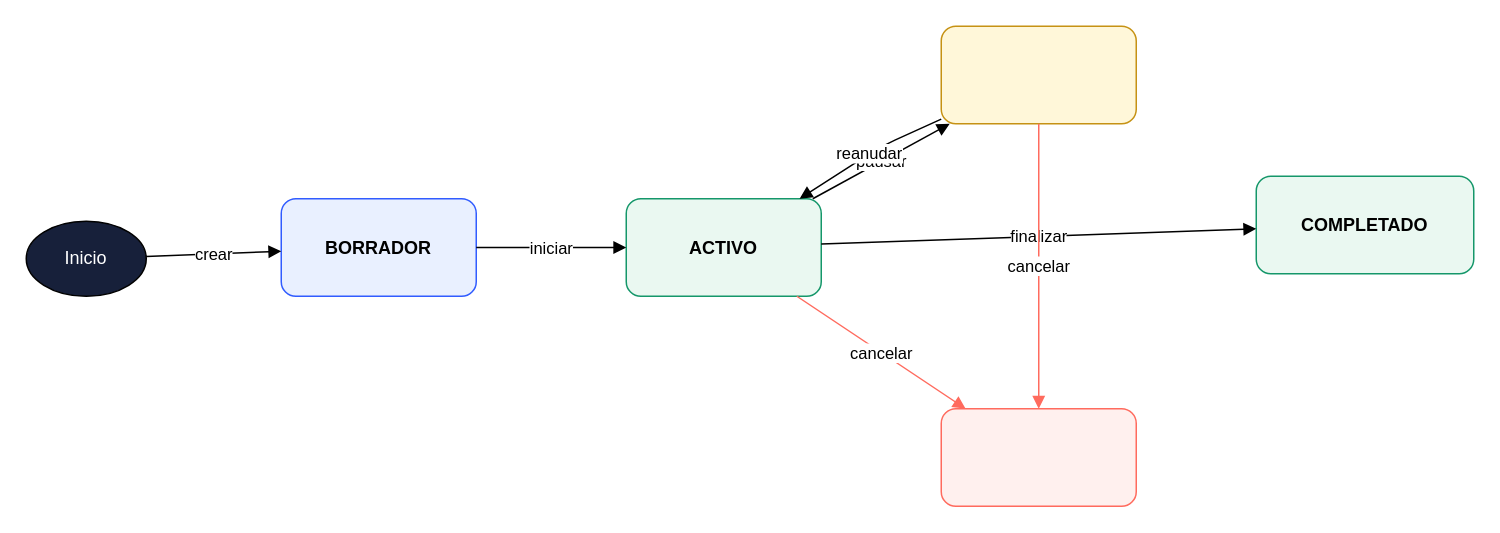
The diagram is 1500 pixels wide and 533 high, and some of its shapes have lost their labels. Here are the shapes that lost their labels. From the top down, the centre of each, then its label:
At point (1038, 74): "PAUSADO".
At point (1038, 456): "CANCELADO".
